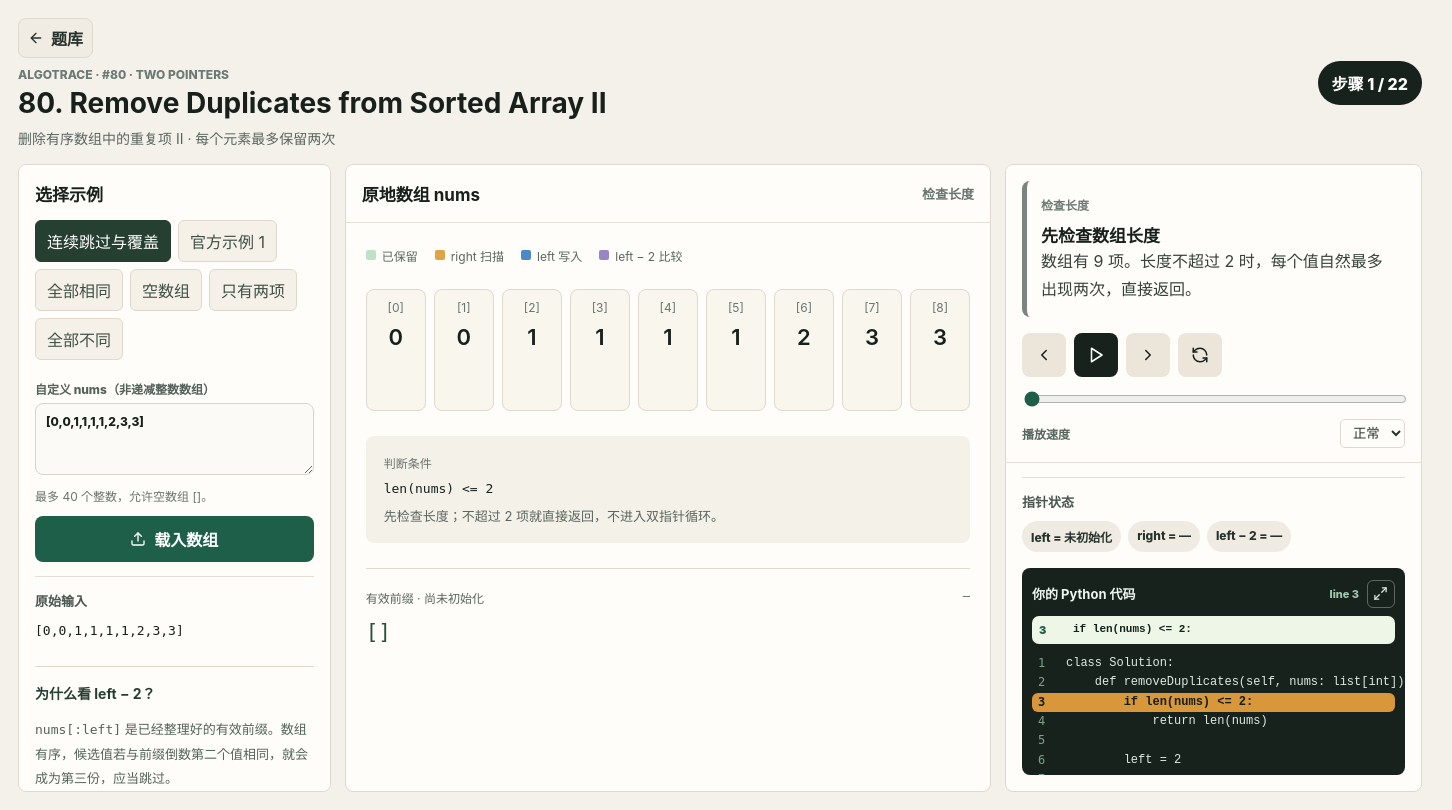
Test: Remove Duplicates II visualizer interactions › shows both pointers in the same cell and includes a write only after left advances
Set the slider named "Step slider" to "2" at (1067, 399), box left=1024, top=391, right=1407, bottom=407
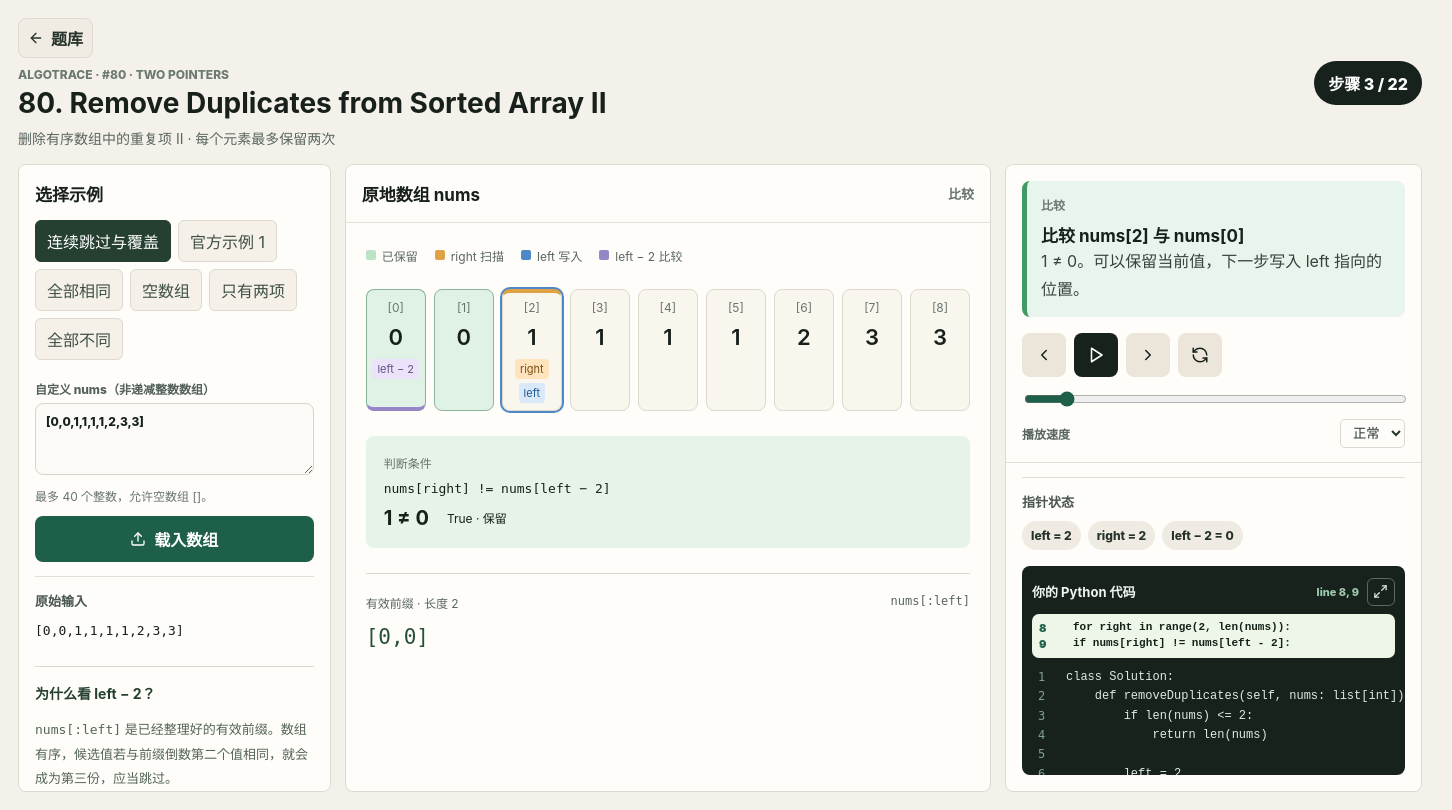
Expected: the text "left" is shown, left=519, top=383, right=545, bottom=403
Expected: the text "right" is shown, left=515, top=359, right=549, bottom=379
Expected: the text "left − 2" is shown, left=372, top=359, right=419, bottom=379
Click the button "官方示例 1".
click(228, 241)  # box left=178, top=220, right=277, bottom=262
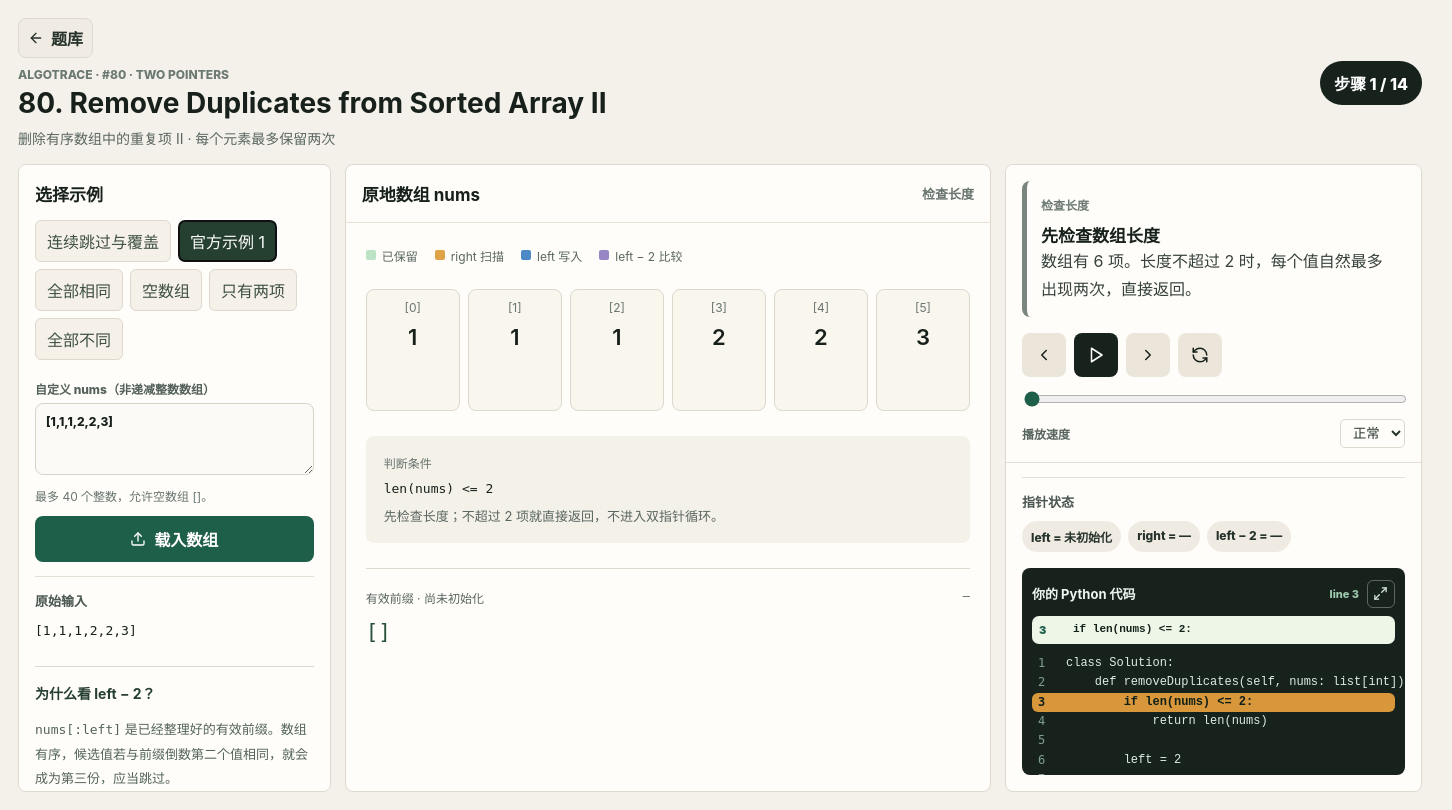
Set the slider named "Step slider" to "5" at (1173, 399), box left=1024, top=391, right=1407, bottom=407
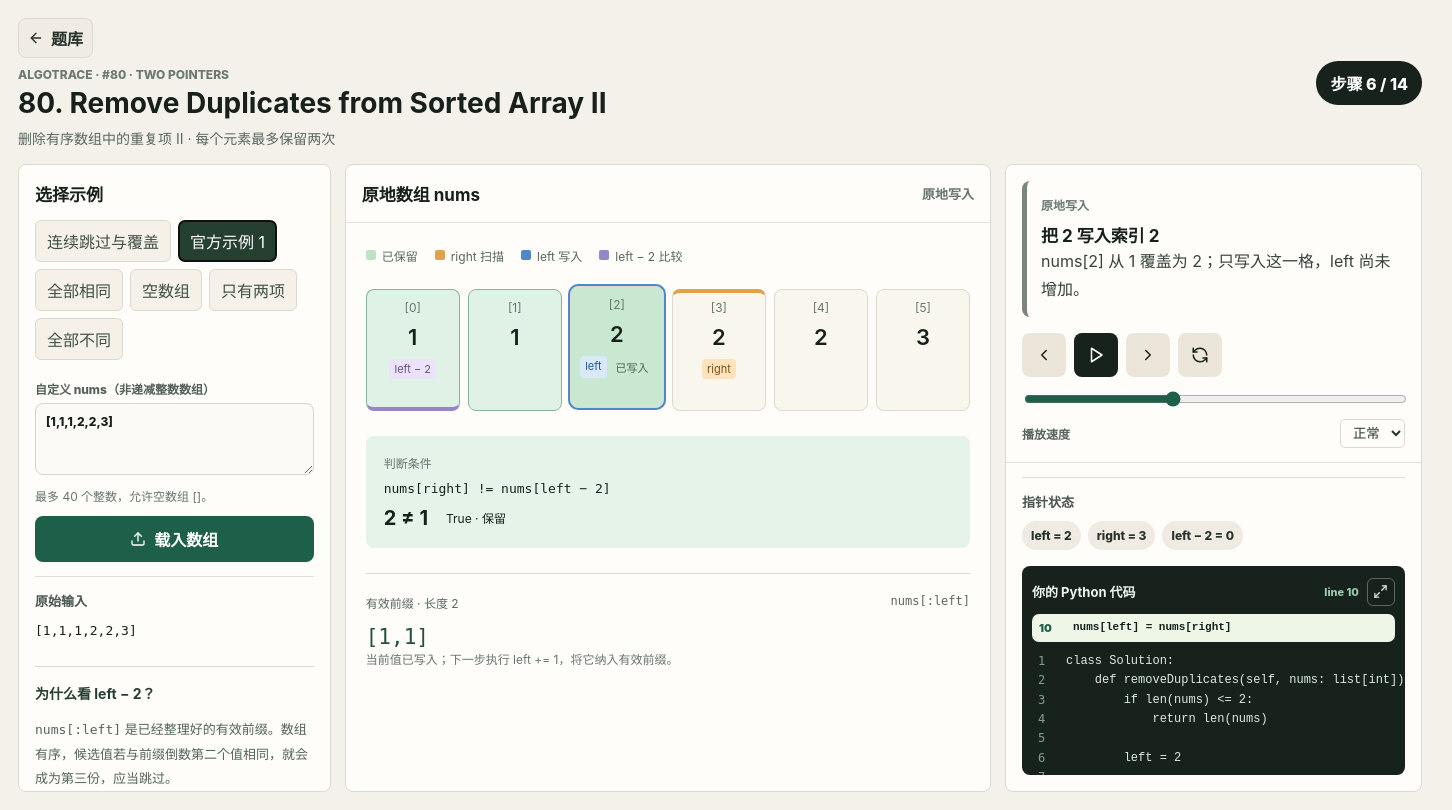
Expected: the 1st text "2" is shown, left=610, top=321, right=624, bottom=347
Expected: the text with test id "valid-prefix" reads "[1,1]", left=366, top=625, right=429, bottom=649
Click the button named "Next step".
click(1148, 355)  # box left=1126, top=333, right=1170, bottom=377
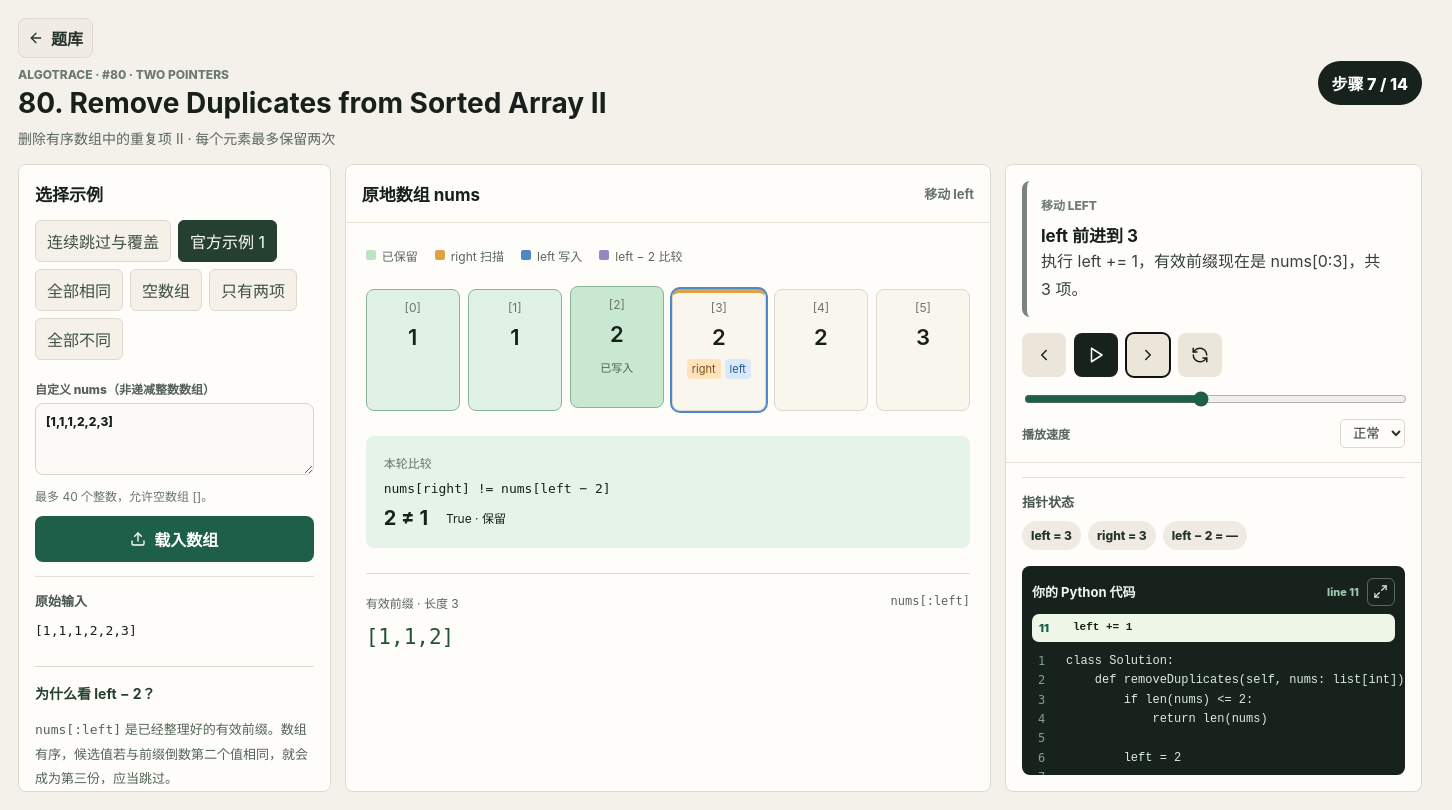
Expected: the text with test id "valid-prefix" reads "[1,1,2]", left=366, top=625, right=454, bottom=649
Expected: the text "left = 3" is shown, left=1022, top=521, right=1081, bottom=550
